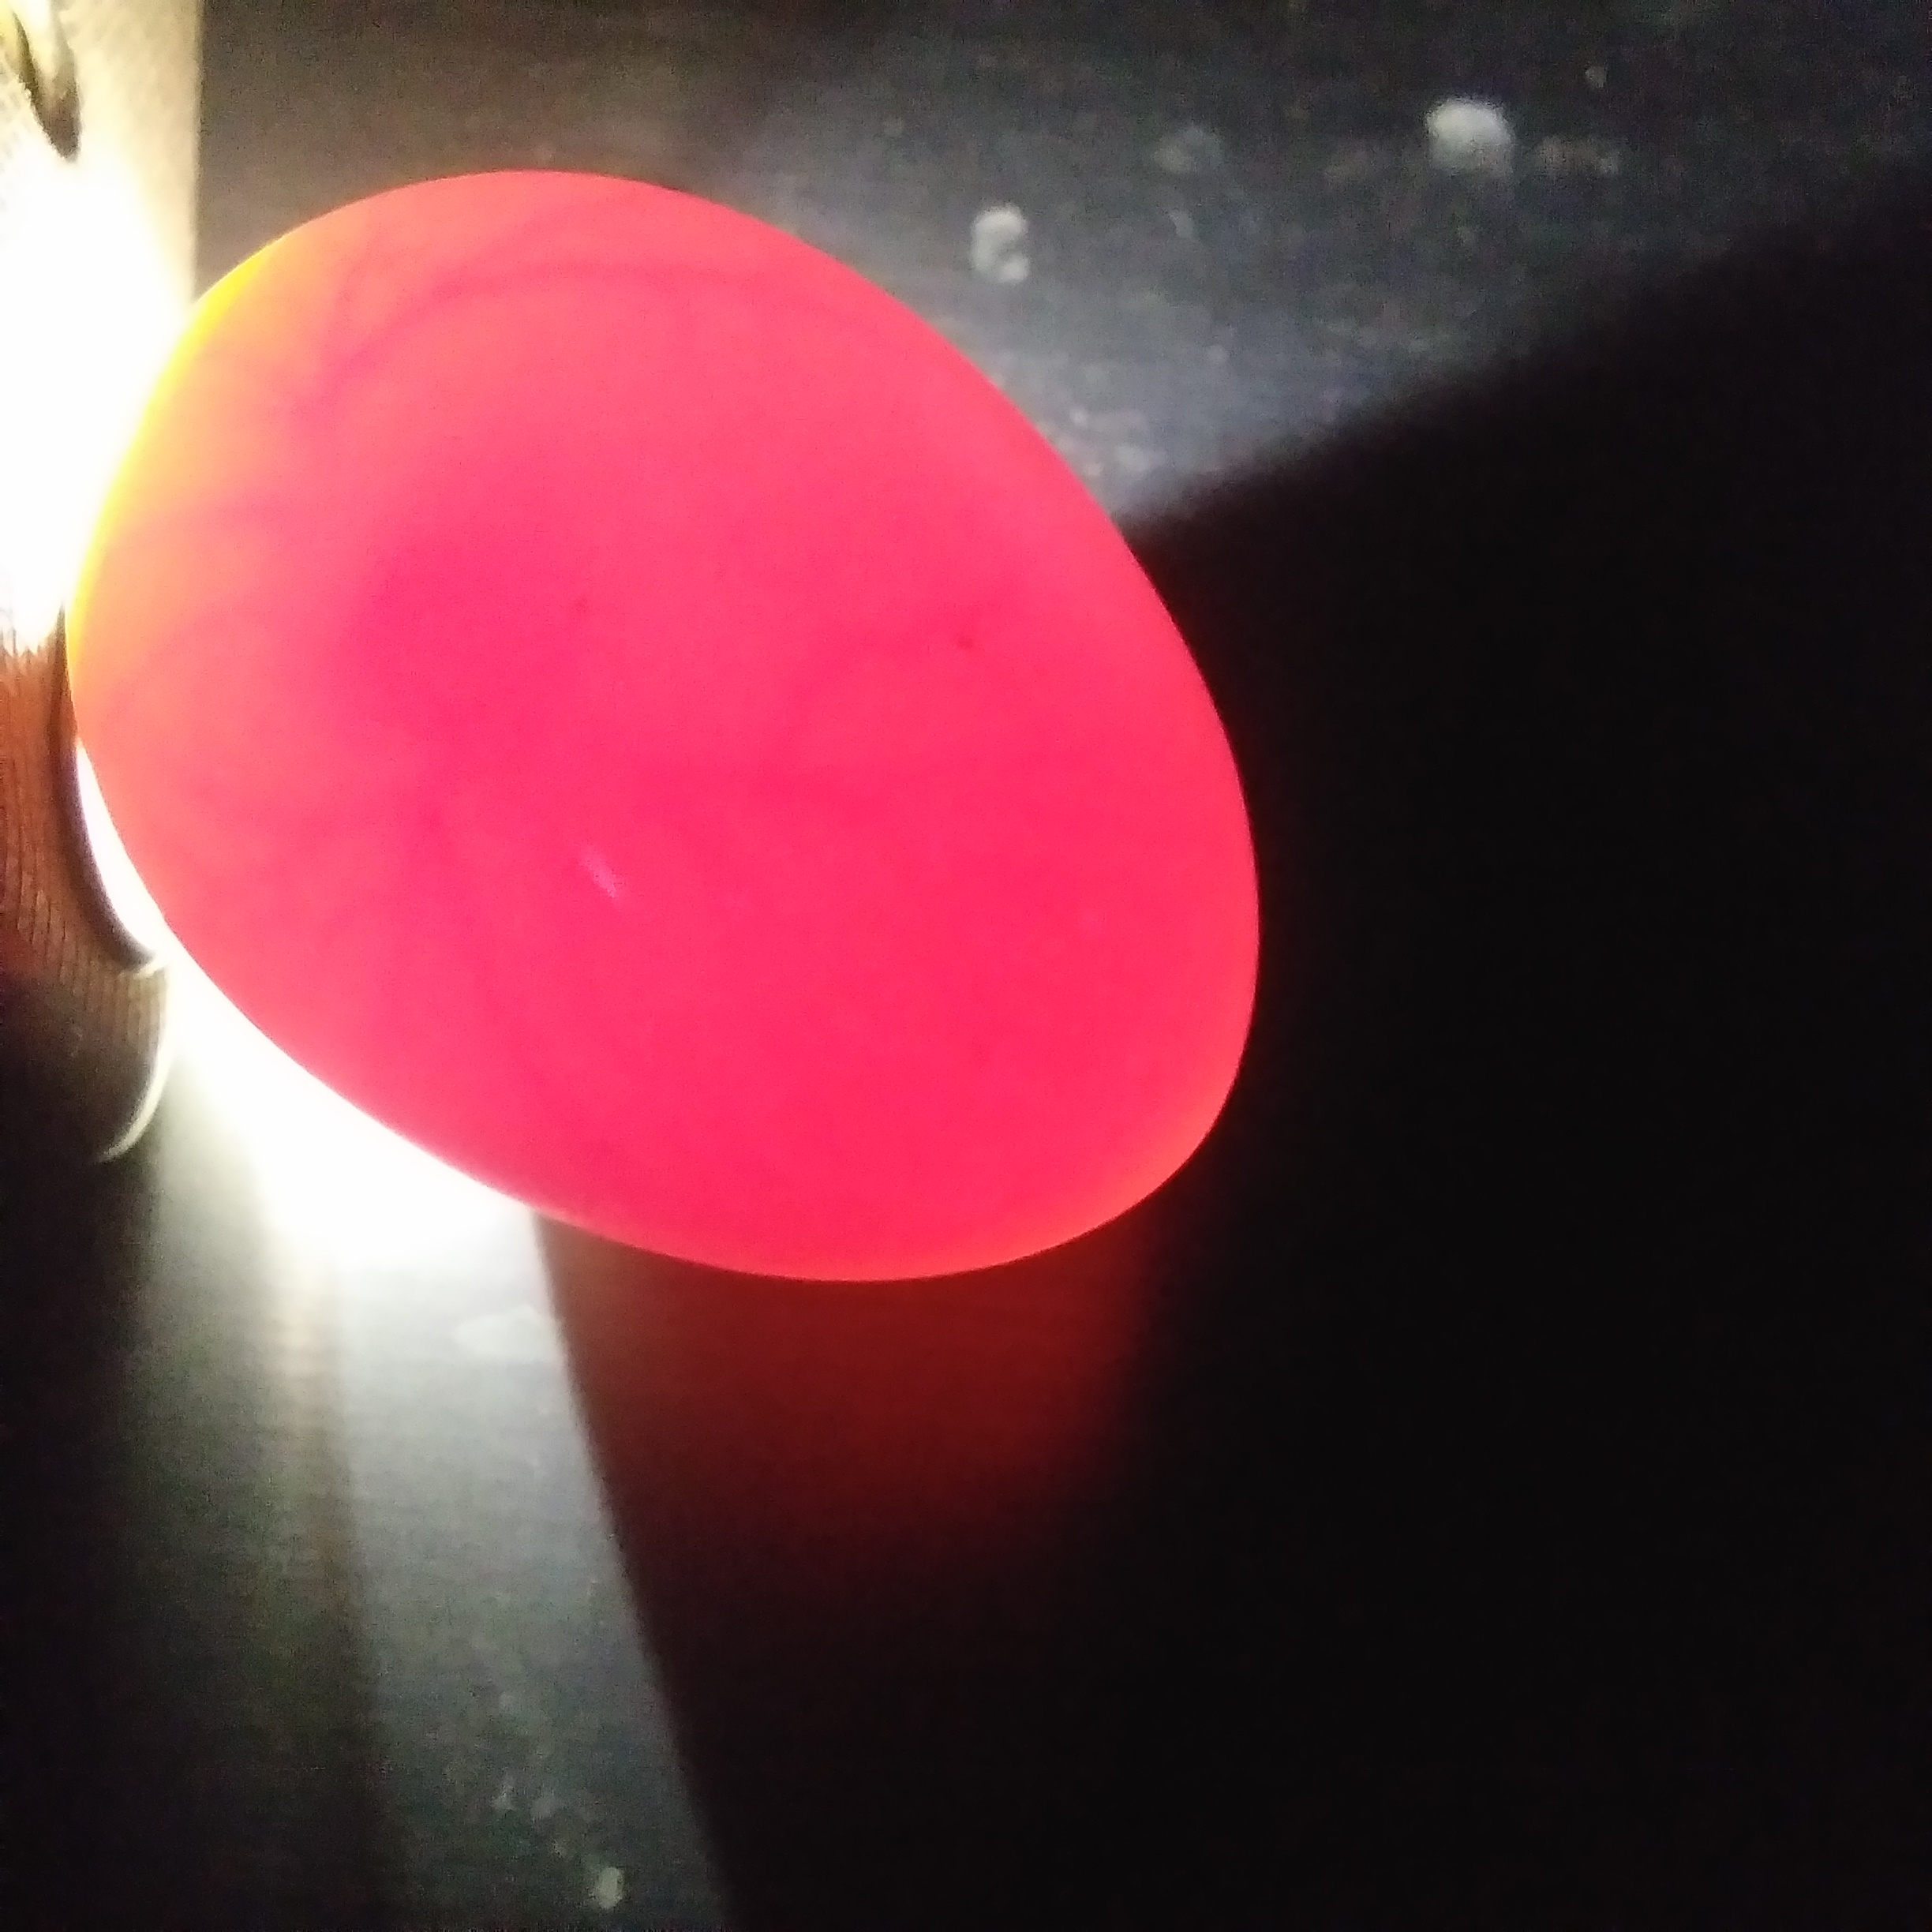bloodcell: (333, 239, 678, 568), (182, 734, 550, 984)
